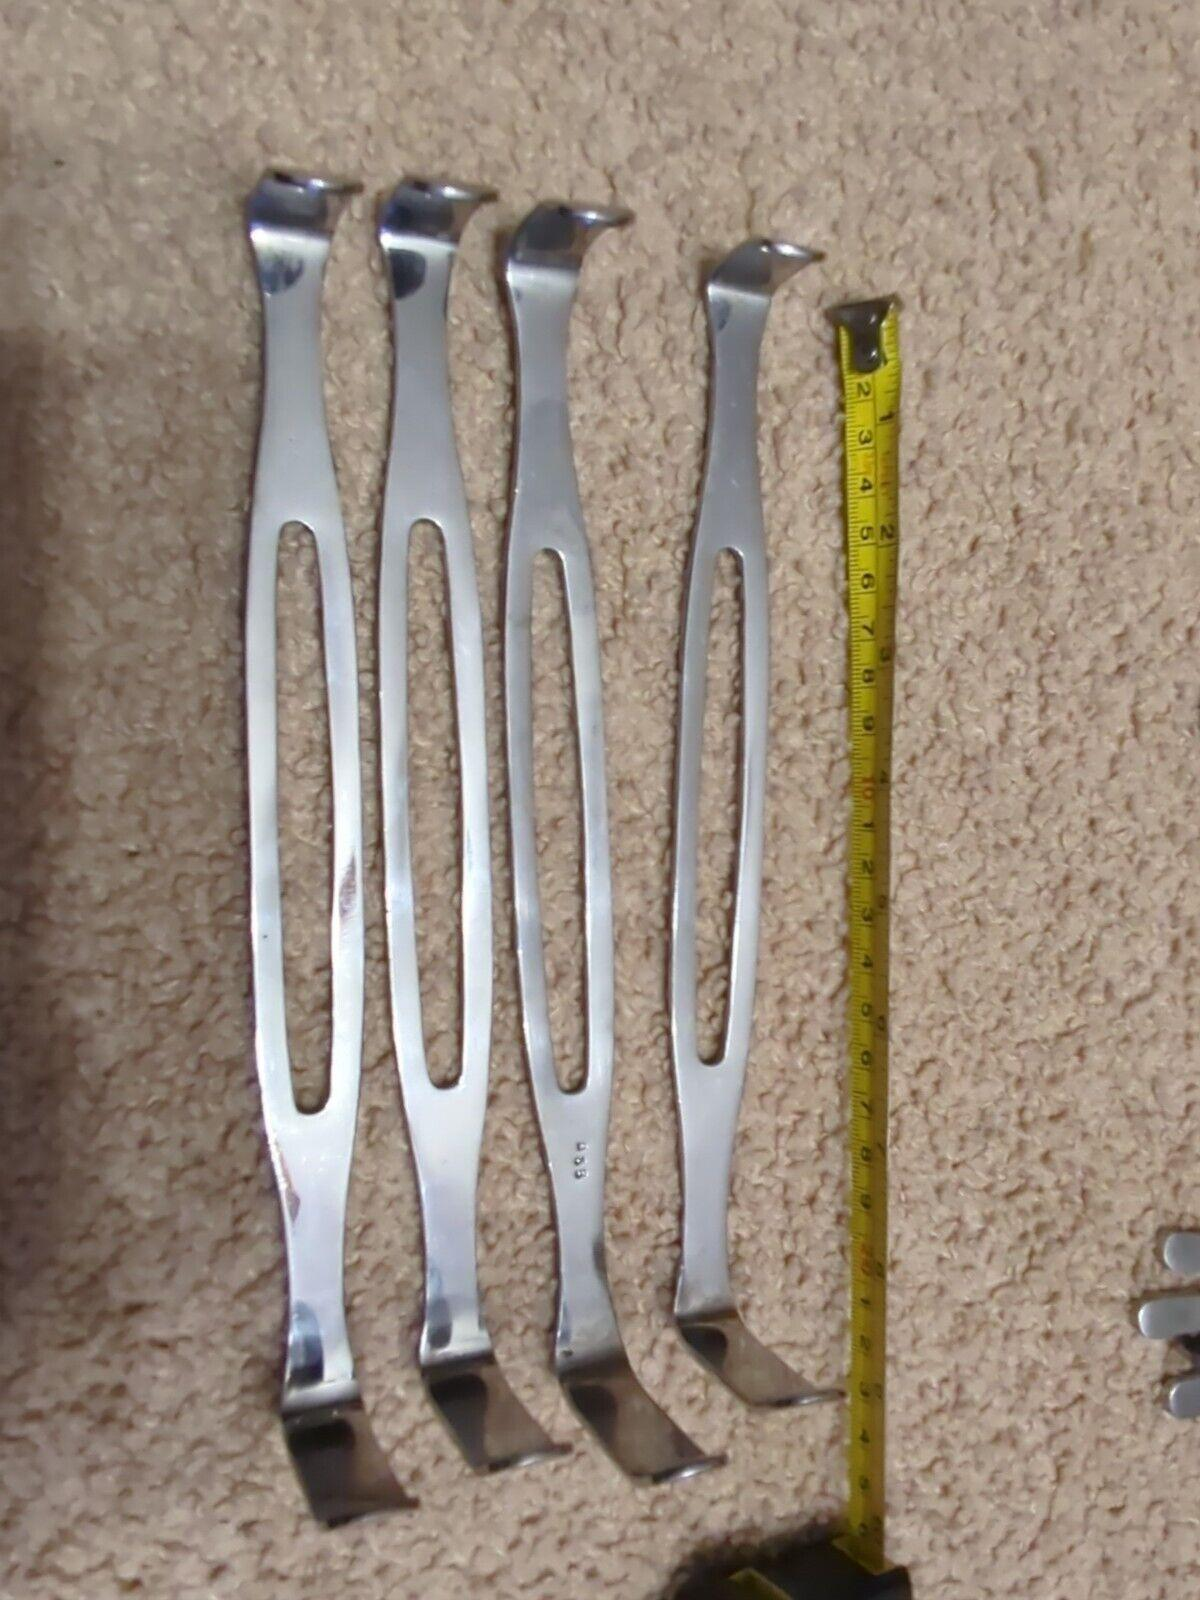Army Navy Retractor: (192, 150, 420, 1527), (485, 183, 720, 1505), (645, 222, 868, 1415), (363, 165, 560, 1510)
